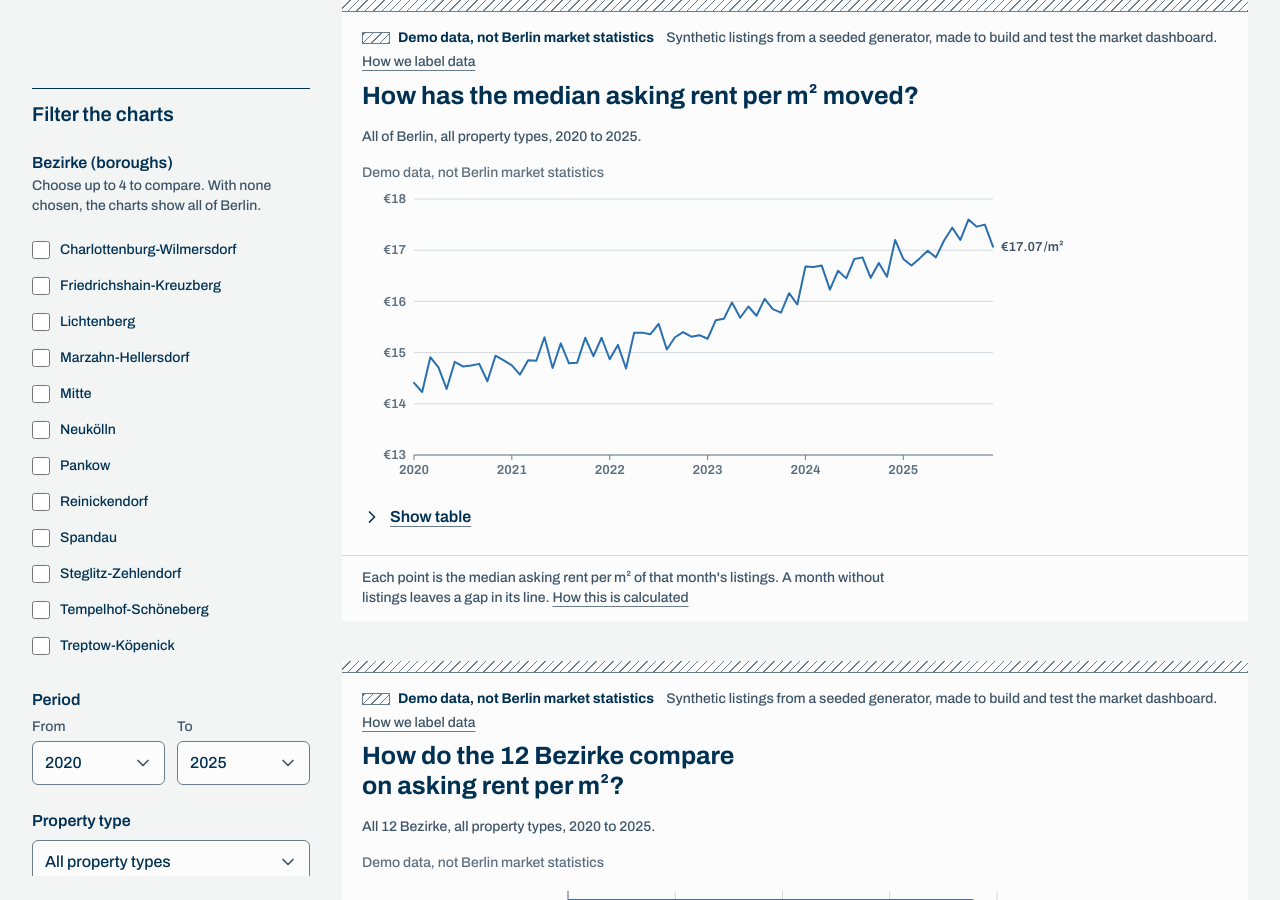
Scenario: MarketView › keeps the period valid and writes it to the URL
Select "2023" in the dropdown labelled "From": (98, 764) [32,742,165,786]
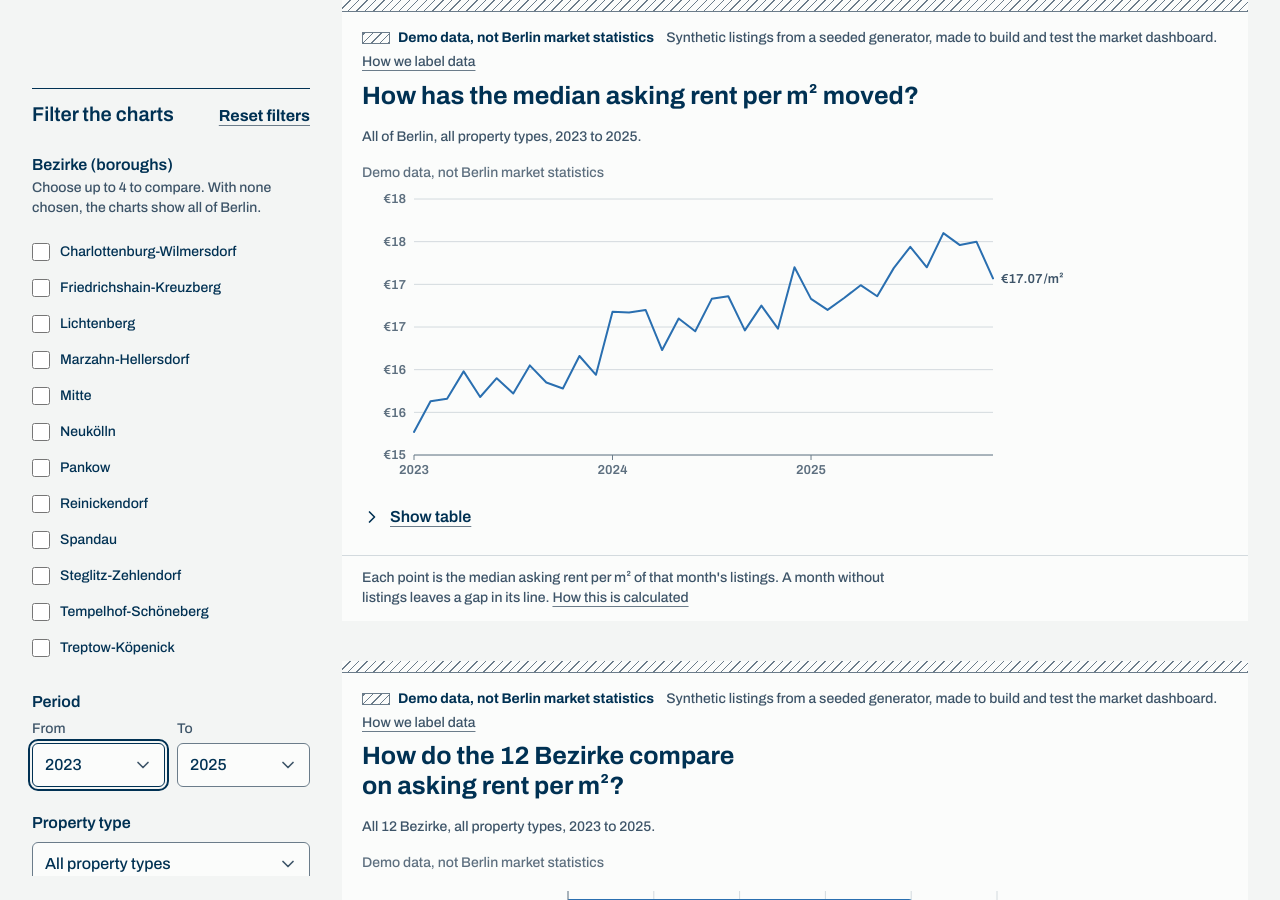
Expected: the text "All 12 Bezirke, all property types, 2023 to 2025." is shown, [362,819,655,834]
